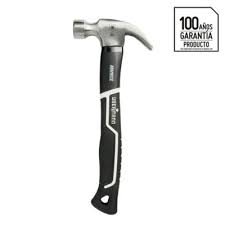martillu: (65, 8, 157, 217)
